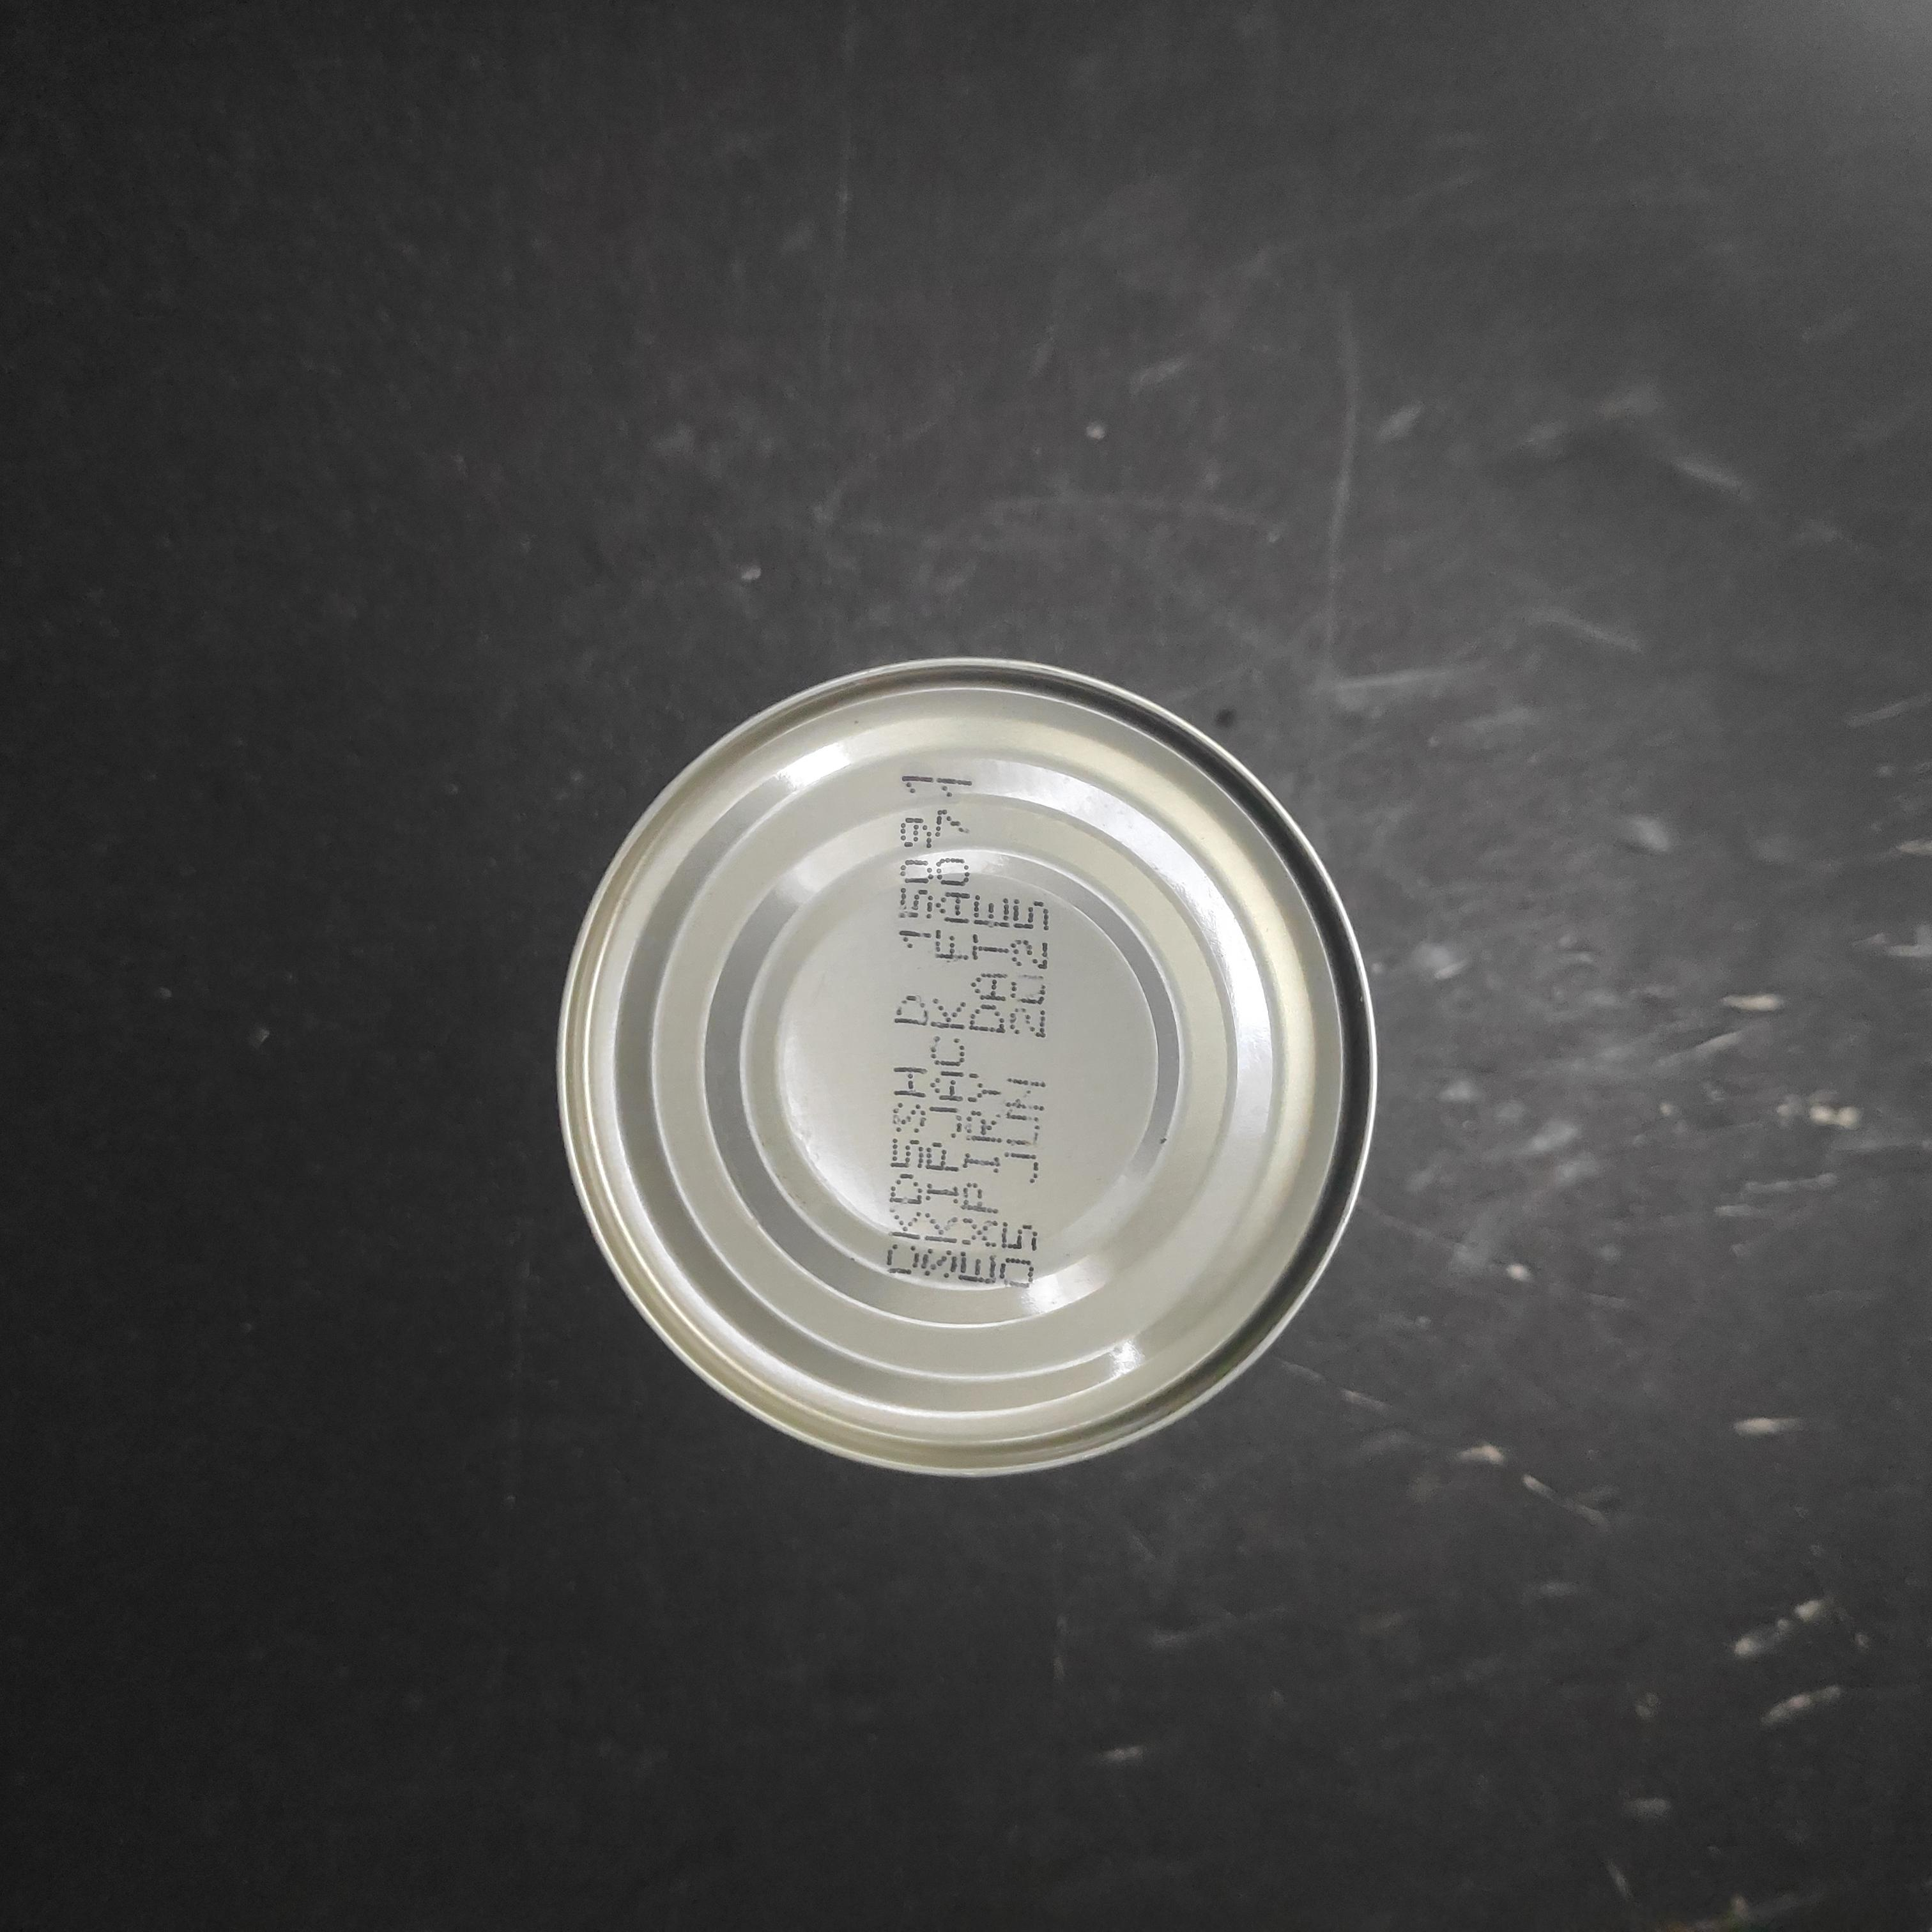No defect: (541, 442, 1392, 1290)
